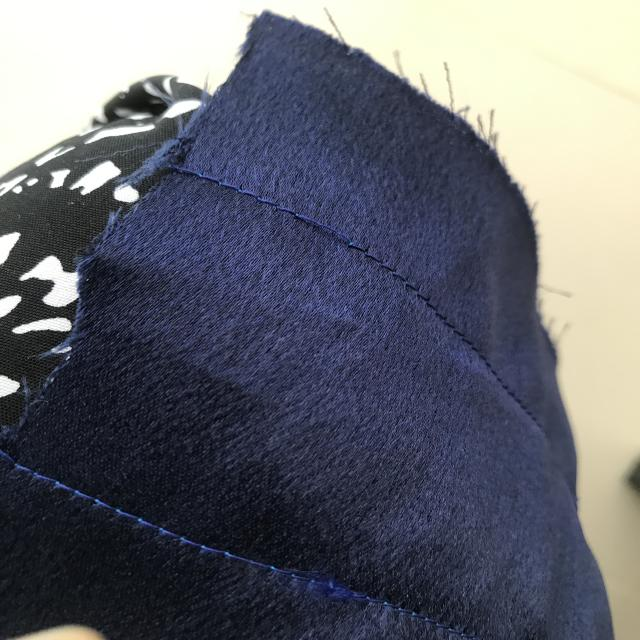skip: (279, 196, 362, 261)
